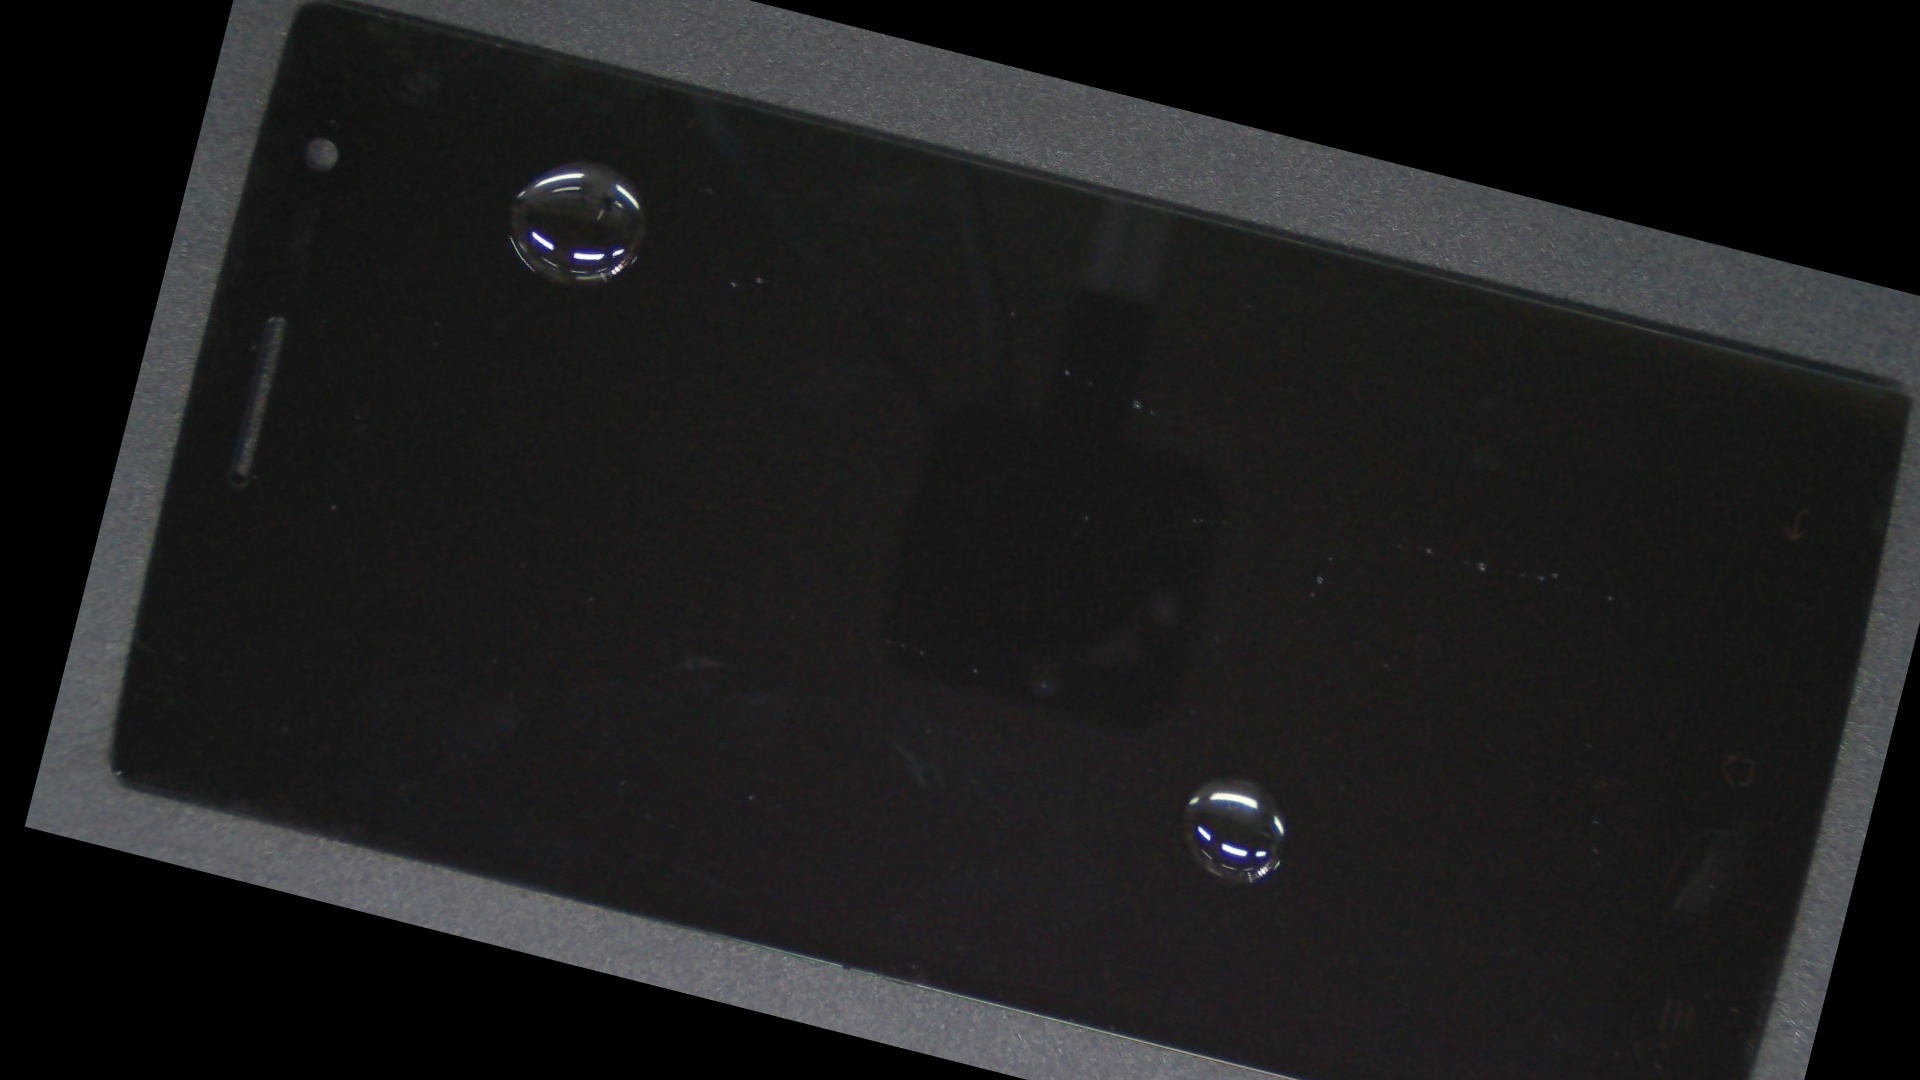oil: (601, 330, 1898, 1080), (380, 18, 800, 303)
